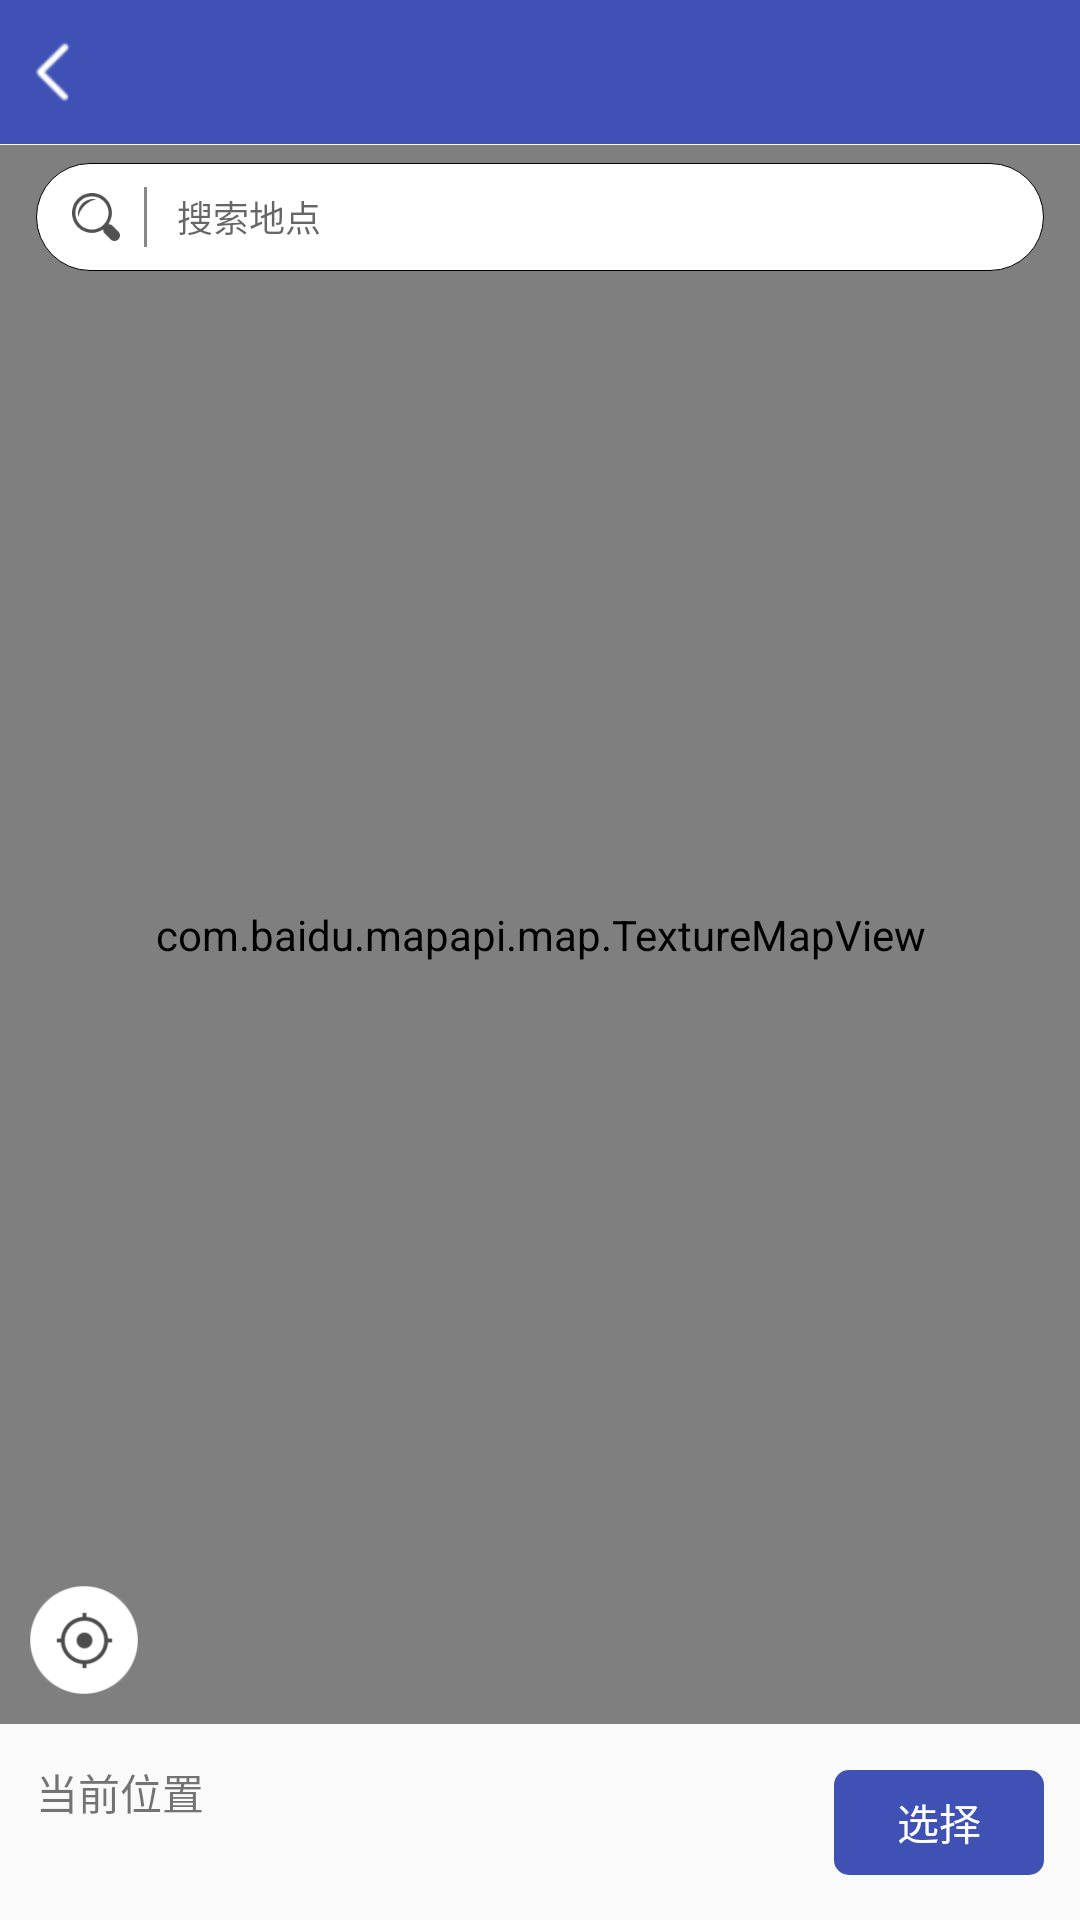

Where to tap for icons on this 1080 x 1920 app screen, as [x,y]:
search: [96,217]
